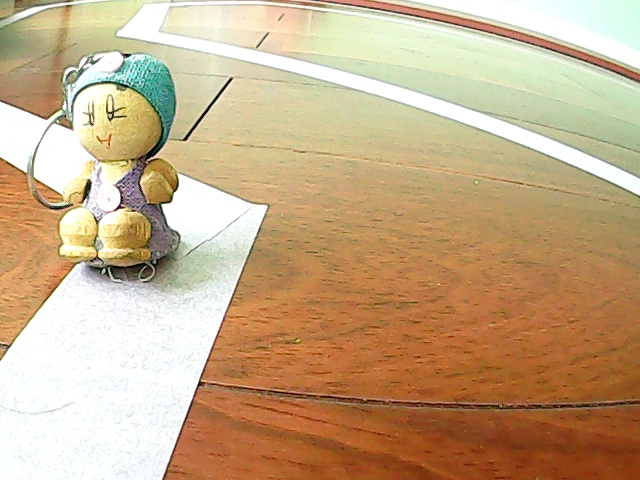pedestrain: (26, 45, 195, 286)
